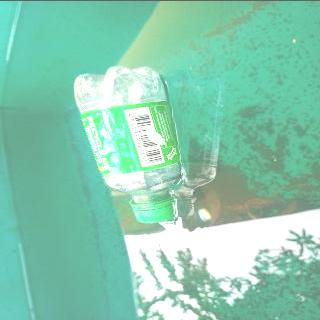bottle: (70, 62, 186, 226)
